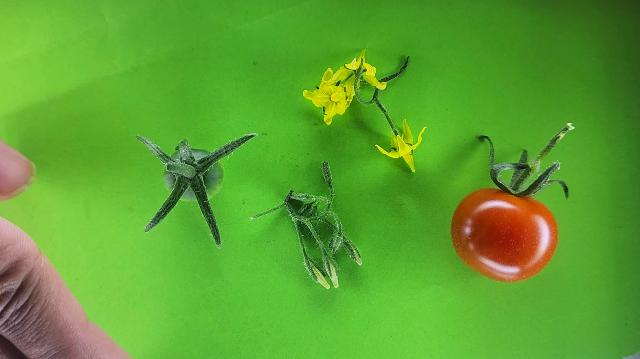Anthesis: (302, 63, 355, 124), (373, 119, 426, 173), (344, 49, 384, 93)
Flower Bud: (313, 269, 331, 290), (327, 264, 339, 289), (350, 245, 361, 265)
Fruit Maturation: (163, 149, 224, 203)
Fully Grown: (448, 187, 560, 285)
